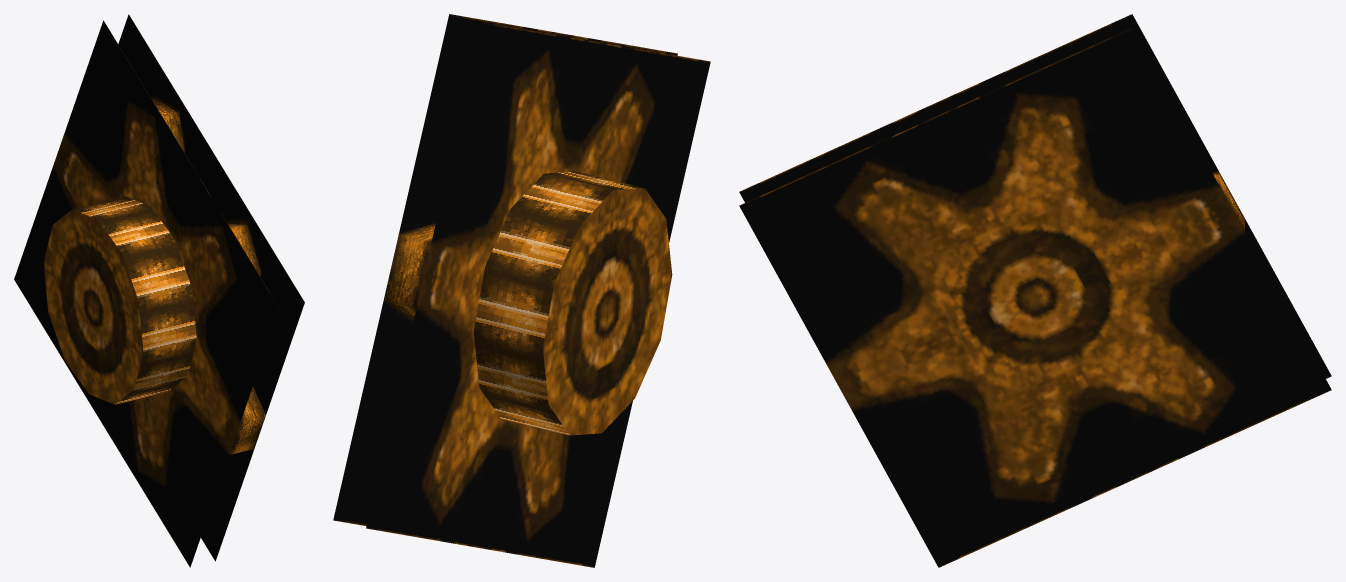
File: INST_PUZZLE_PIECE1_PIECE1_COPPER.fbx
3 views of the same model, side by side, from view 1: azimuth 30°, elevation 25°; view 2: azimuth 150°, elevation 25°; view 3: azimuth 270°, elevation 25° (orthographic). The views are drawn at different scales.
Visible parts, largest first — view 1: INST_PUZZLE_PIECE1_PIECE1_COPPER; view 2: INST_PUZZLE_PIECE1_PIECE1_COPPER; view 3: INST_PUZZLE_PIECE1_PIECE1_COPPER.
Part boxes in pixels (x1=…): INST_PUZZLE_PIECE1_PIECE1_COPPER: x1=14, y1=14, x2=304, y2=567; INST_PUZZLE_PIECE1_PIECE1_COPPER: x1=333, y1=14, x2=710, y2=567; INST_PUZZLE_PIECE1_PIECE1_COPPER: x1=739, y1=14, x2=1331, y2=567.
Bounding box in the file's own units: 783 × 4613 × 4588.
Materials: 3 (3 with a texture image).
